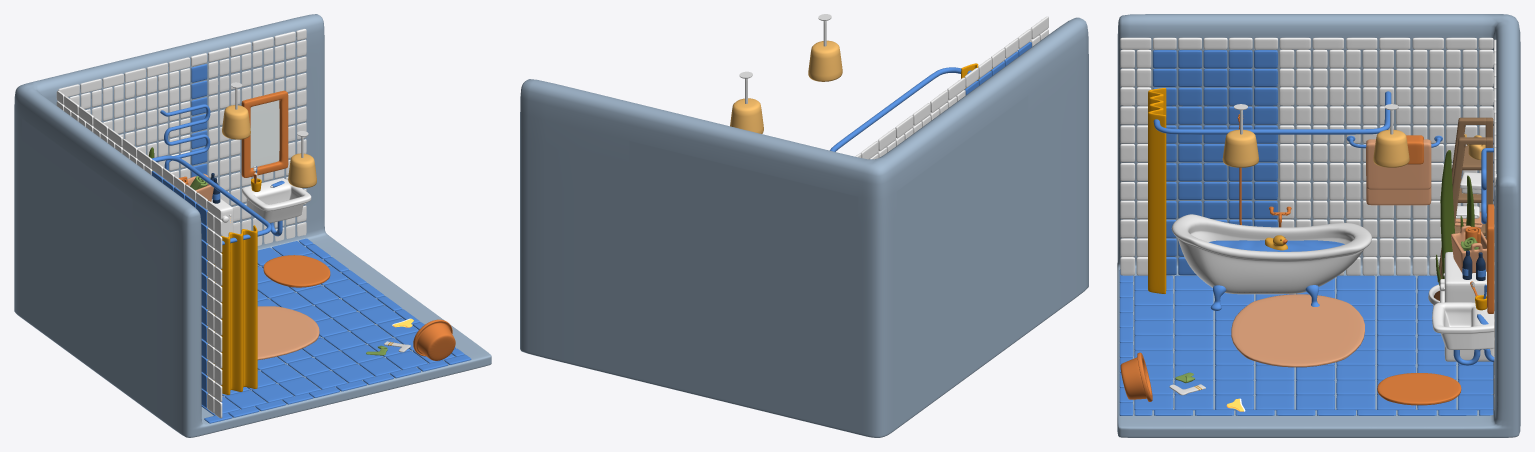
Rendered from cozy_blue_bathroom4.glb.
3 views of the same model, side by side, from view 1: azimuth 30°, elevation 25°; view 2: azimuth 150°, elevation 25°; view 3: azimuth 270°, elevation 25° (orthographic). The views are drawn at different scales.
Visible parts, largest first — view 1: wBox.001_Material.005_0.001, wBox.009_Material.001_0.001, wBox.027_Material.011_0.001, wBox.012_Material.011_0.001, wBox.037_Material.012_0.001, wBox.054_Material.011_0.001, wBox.006_Material.004_0.001, wBox.039_Material.011_0.001, wBox.028_Material.009_0.001, wBox.029_Material.019_0.001, wBox.025_Material.011_0.001, wBox.051_Material.006_0.001 (+12 smaller); view 2: wBox.001_Material.005_0.001, wBox.054_Material.011_0.001, wSphere.006_Material.023_0.001, wTube.002_Material.003_0.001, wSphere.005_Material.023_0.001, wBox.016_Material.011_0.001; view 3: wBox.001_Material.005_0.001, wBox.009_Material.001_0.001, wBox.016_Material.011_0.001, wBox.026_Material.001_0.001, wBox_Material.002_0.001, wBox.006_Material.004_0.001, wBox.054_Material.011_0.001, wBox.037_Material.012_0.001, wBox.025_Material.011_0.001, wBox.005_Material.004_0.001, wBox.011_Material.011_0.001, wBox.067_Material.024_0.001 (+22 smaller).
Part boxes in pixels (x1,y1,x2,y2): wBox.001_Material.005_0.001: (14, 14, 491, 437); wBox.009_Material.001_0.001: (201, 241, 454, 415); wBox.027_Material.011_0.001: (208, 39, 306, 245); wBox.012_Material.011_0.001: (63, 68, 190, 178); wBox.037_Material.012_0.001: (206, 225, 257, 394); wBox.054_Material.011_0.001: (56, 29, 306, 219); wBox.006_Material.004_0.001: (257, 306, 319, 359); wBox.039_Material.011_0.001: (242, 178, 311, 222); wBox.028_Material.009_0.001: (250, 100, 279, 167); wBox.029_Material.019_0.001: (241, 90, 288, 177); wBox.025_Material.011_0.001: (214, 216, 222, 418); wBox.051_Material.006_0.001: (263, 255, 330, 287); wBox.001_Material.005_0.001: (520, 17, 1088, 437); wBox.054_Material.011_0.001: (855, 16, 1048, 159); wSphere.006_Material.023_0.001: (808, 40, 842, 81); wTube.002_Material.003_0.001: (830, 67, 971, 151); wSphere.005_Material.023_0.001: (730, 98, 763, 133); wBox.016_Material.011_0.001: (870, 90, 965, 159); wBox.001_Material.005_0.001: (1117, 14, 1520, 437); wBox.009_Material.001_0.001: (1134, 275, 1493, 410); wBox.016_Material.011_0.001: (1279, 49, 1477, 275); wBox.026_Material.001_0.001: (1153, 50, 1277, 275); wBox_Material.002_0.001: (1171, 214, 1372, 294); wBox.006_Material.004_0.001: (1231, 294, 1364, 367); wBox.054_Material.011_0.001: (1120, 37, 1496, 186); wBox.037_Material.012_0.001: (1148, 88, 1166, 293); wBox.025_Material.011_0.001: (1120, 49, 1134, 275); wBox.005_Material.004_0.001: (1366, 139, 1431, 205); wBox.011_Material.011_0.001: (1136, 49, 1151, 275); wBox.067_Material.024_0.001: (1437, 117, 1493, 281).
Bounding box in the file's own units: 75 × 53 × 75.
